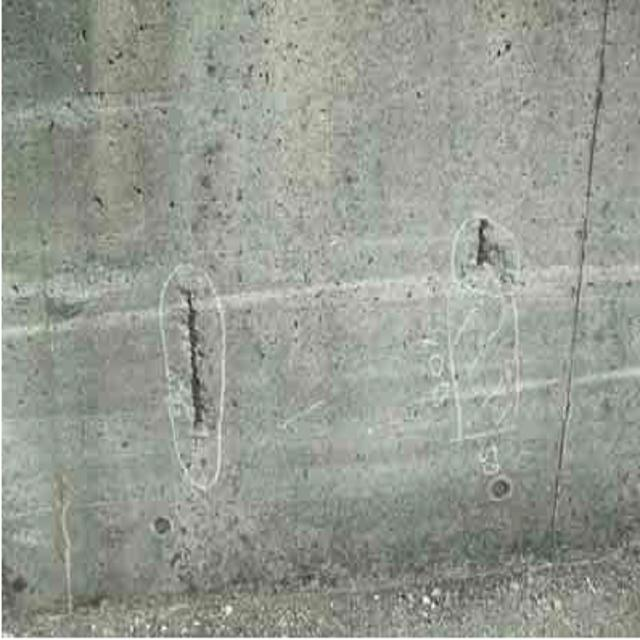spalling: (147, 274, 229, 472), (449, 203, 537, 300)
